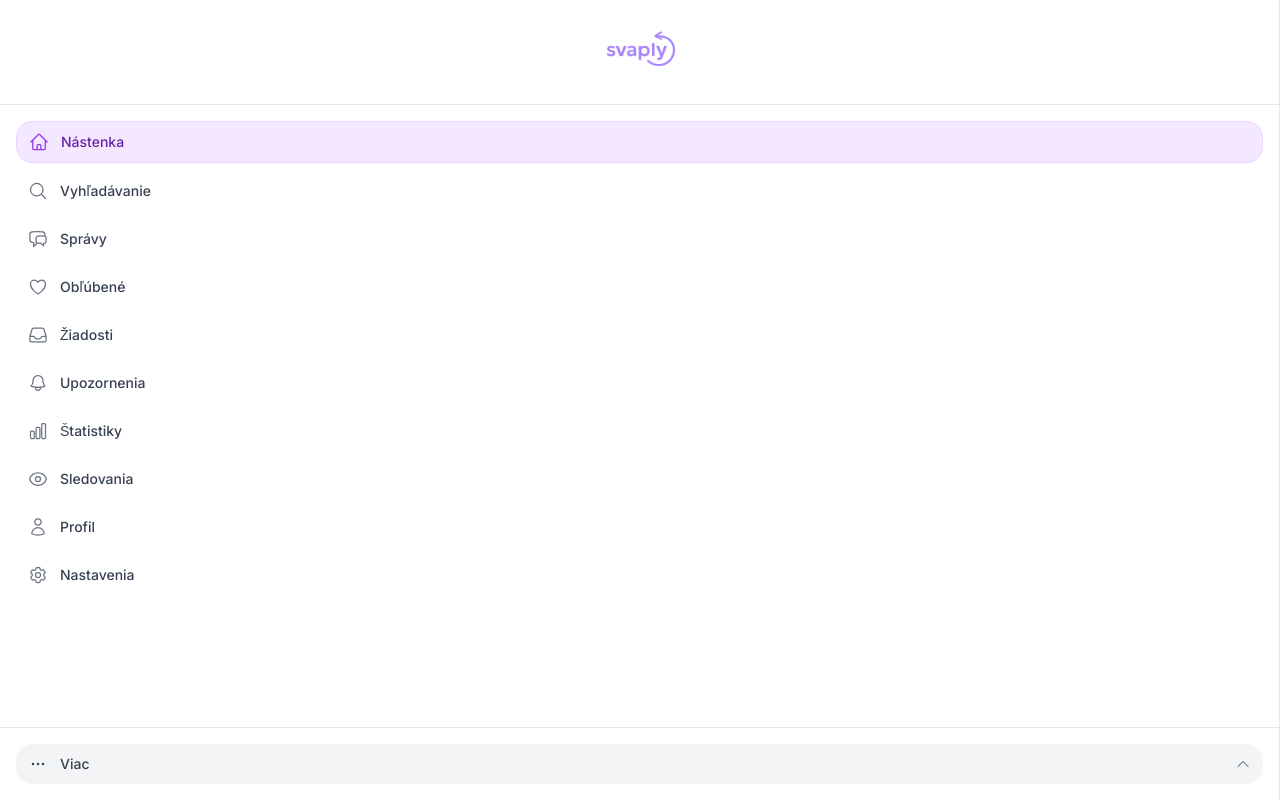
Test: Sidebar extra coverage › toggles theme button label
This screenshot has width=1280, height=800.
Click the button "Viac": (38, 764) x1=16 y1=744 x2=1263 y2=784
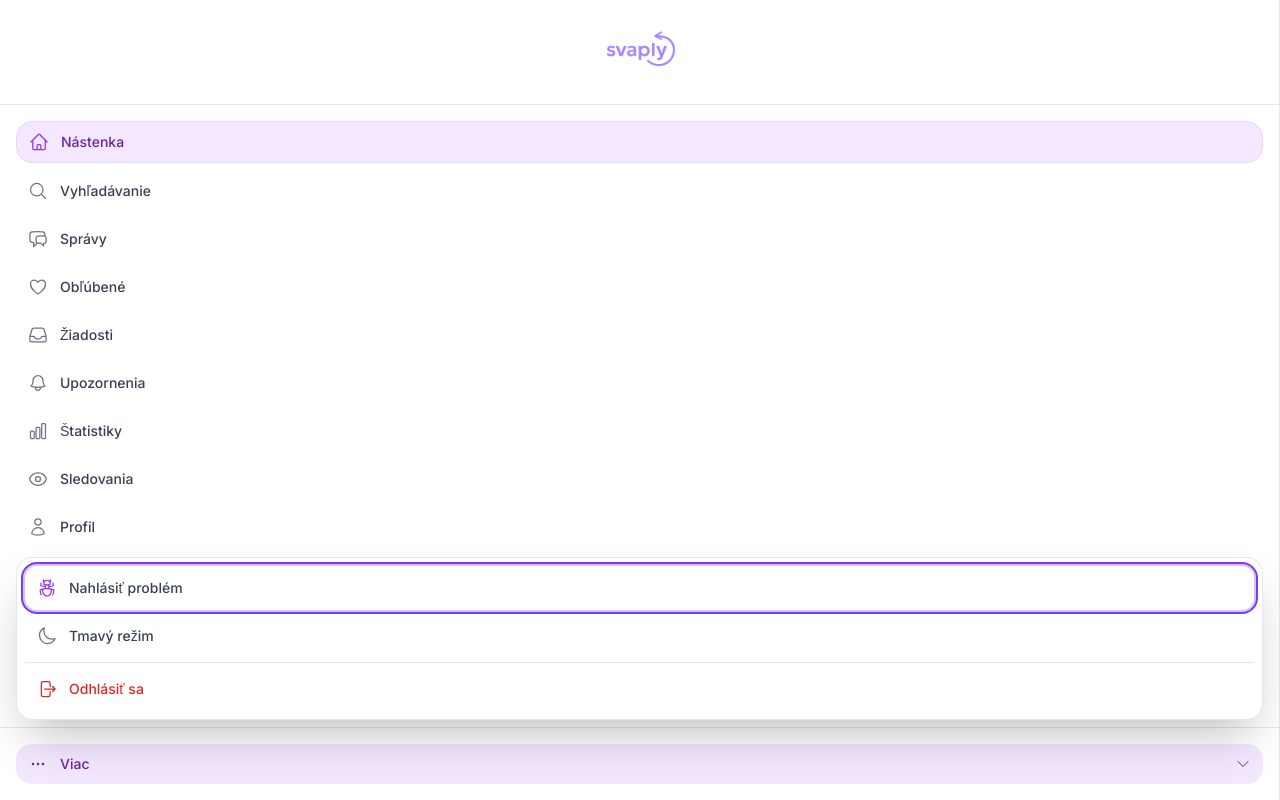
Click the button "Tmavý režim": (111, 636) x1=25 y1=614 x2=1254 y2=658
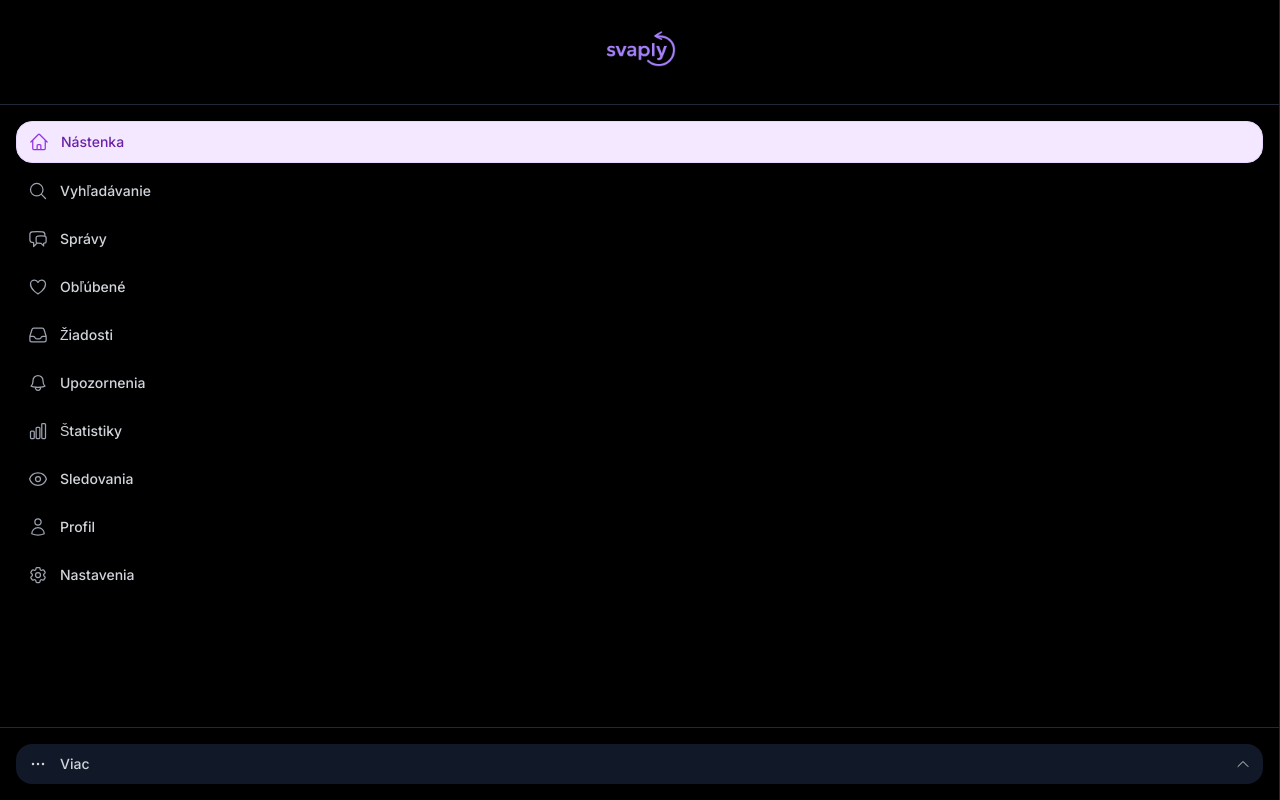
Click the button "Viac": (38, 764) x1=16 y1=744 x2=1263 y2=784
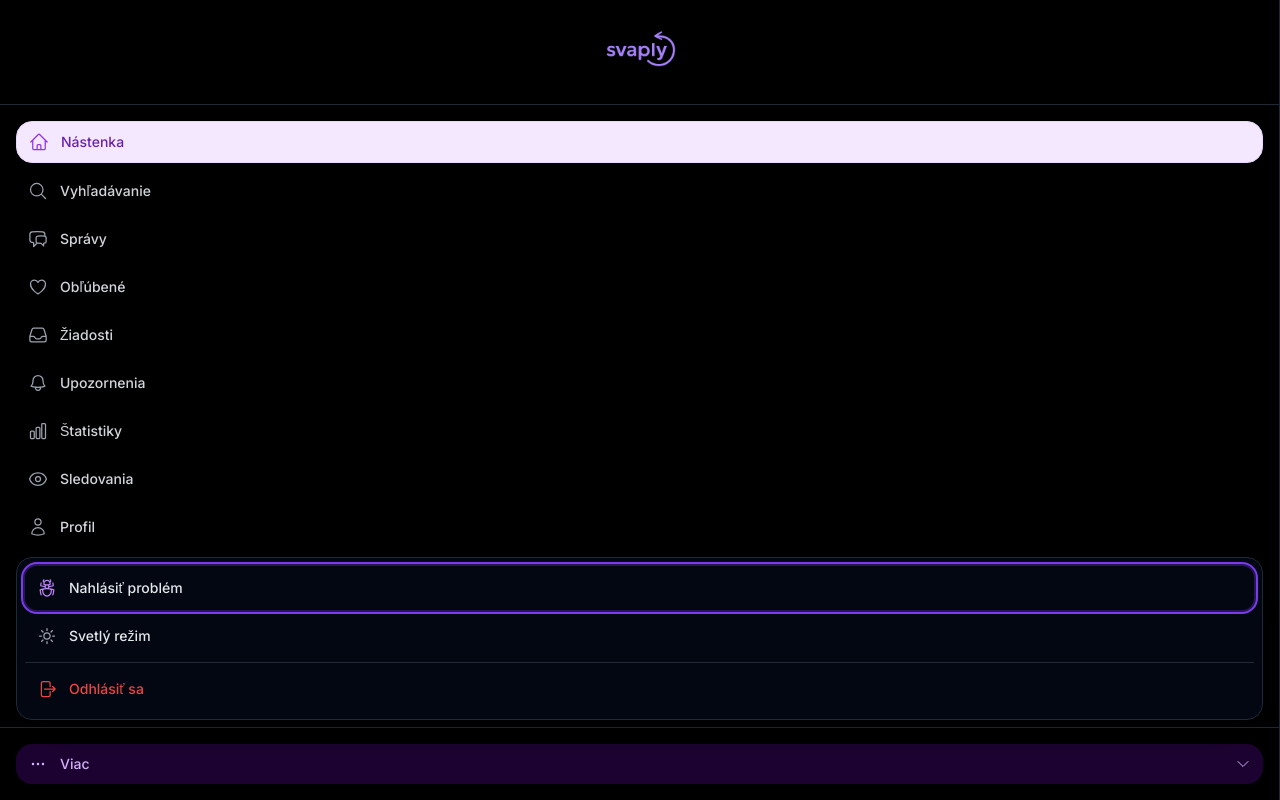
Now the button "Svetlý režim" is shown, box x1=25 y1=614 x2=1254 y2=658
